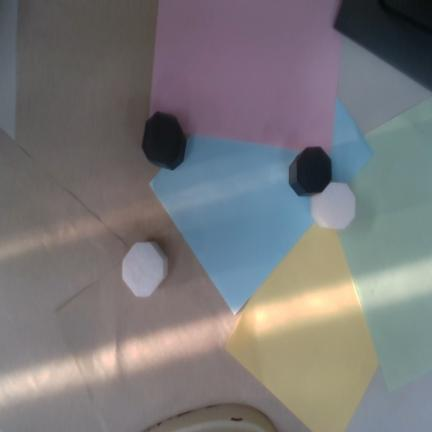Prisma_hexagonal: (142, 112, 187, 171), (122, 241, 168, 297), (310, 181, 356, 229), (289, 147, 332, 197)
